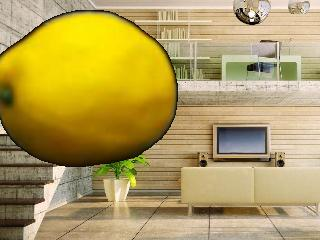lemon: (1, 12, 176, 167)
